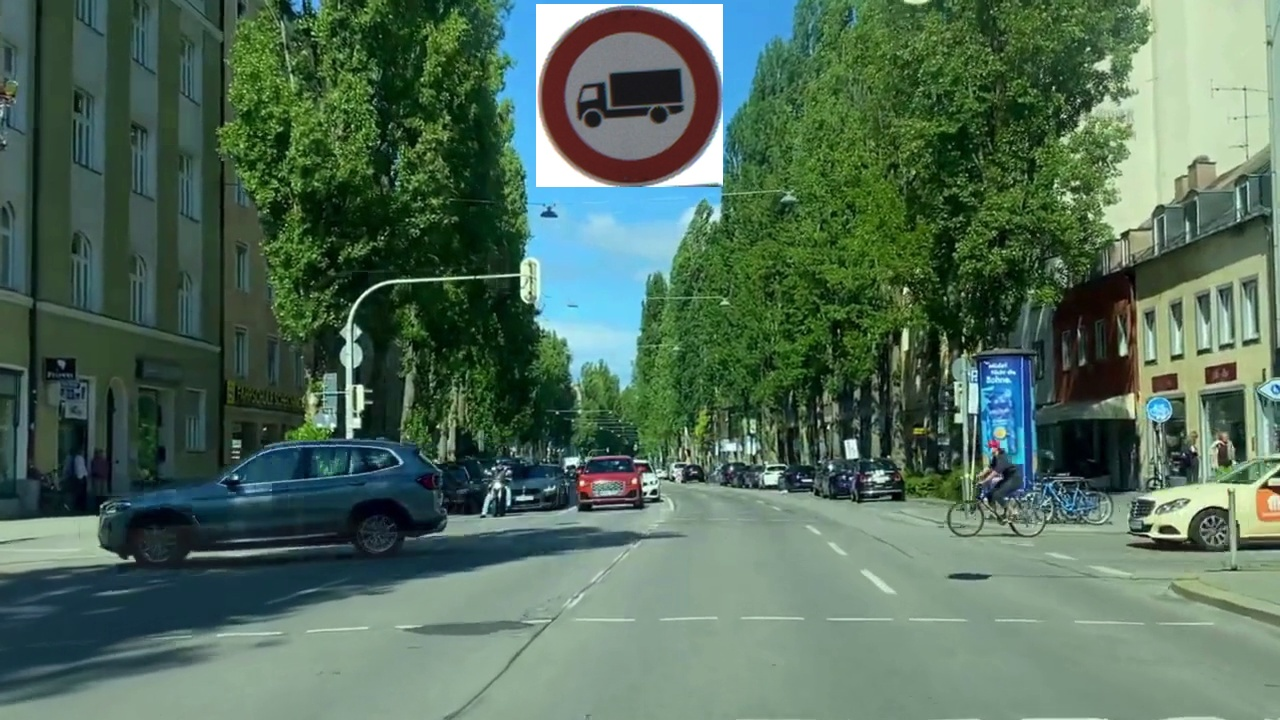Veh >3.5t prohib: (536, 4, 723, 187)
